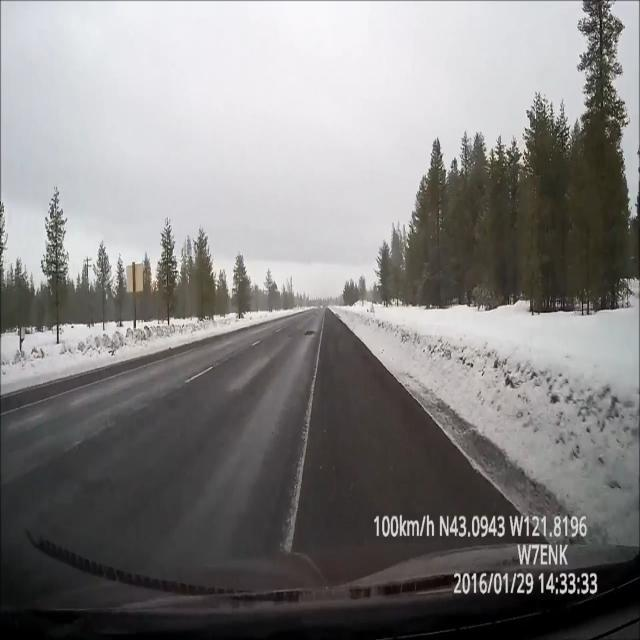pothole: (302, 319, 319, 347)
